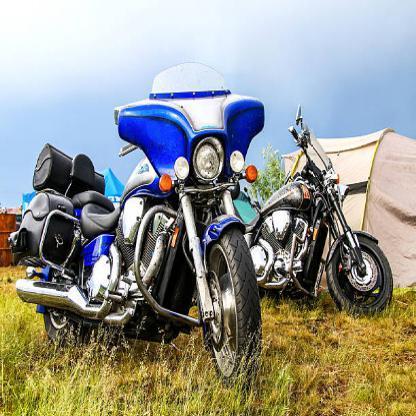Motorcycle: (10, 62, 270, 383), (250, 103, 404, 315)
